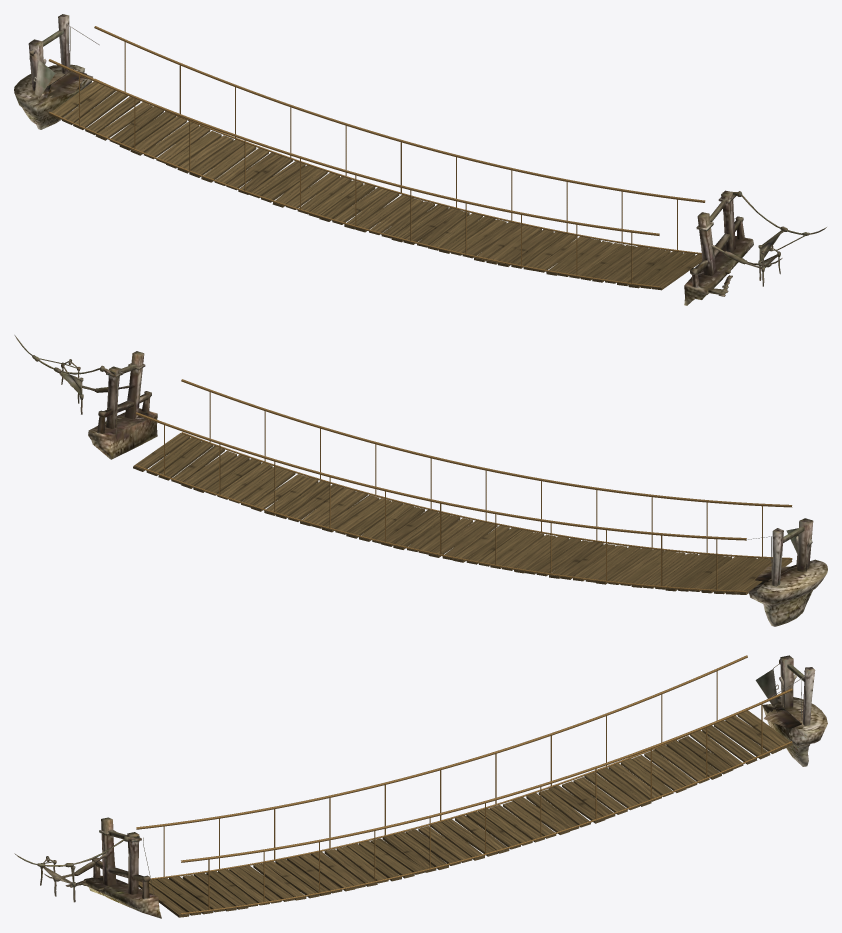
File: suspensionbridge.lite.glb
3 renders of one model, top to bottom at view 1: azimuth 30°, elevation 25°; view 2: azimuth 210°, elevation 25°; view 3: azimuth 270°, elevation 25°, orthographic.
Visible parts, largest first — view 1: model; view 2: model; view 3: model.
Part boxes in pixels (x1,y1,x2,y2): model: (14,14,826,305); model: (14,335,827,626); model: (14,655,827,918).
Size of the model in its own units: 0.5991 by 0.1425 by 0.9995.
3 materials, 3 textured.
